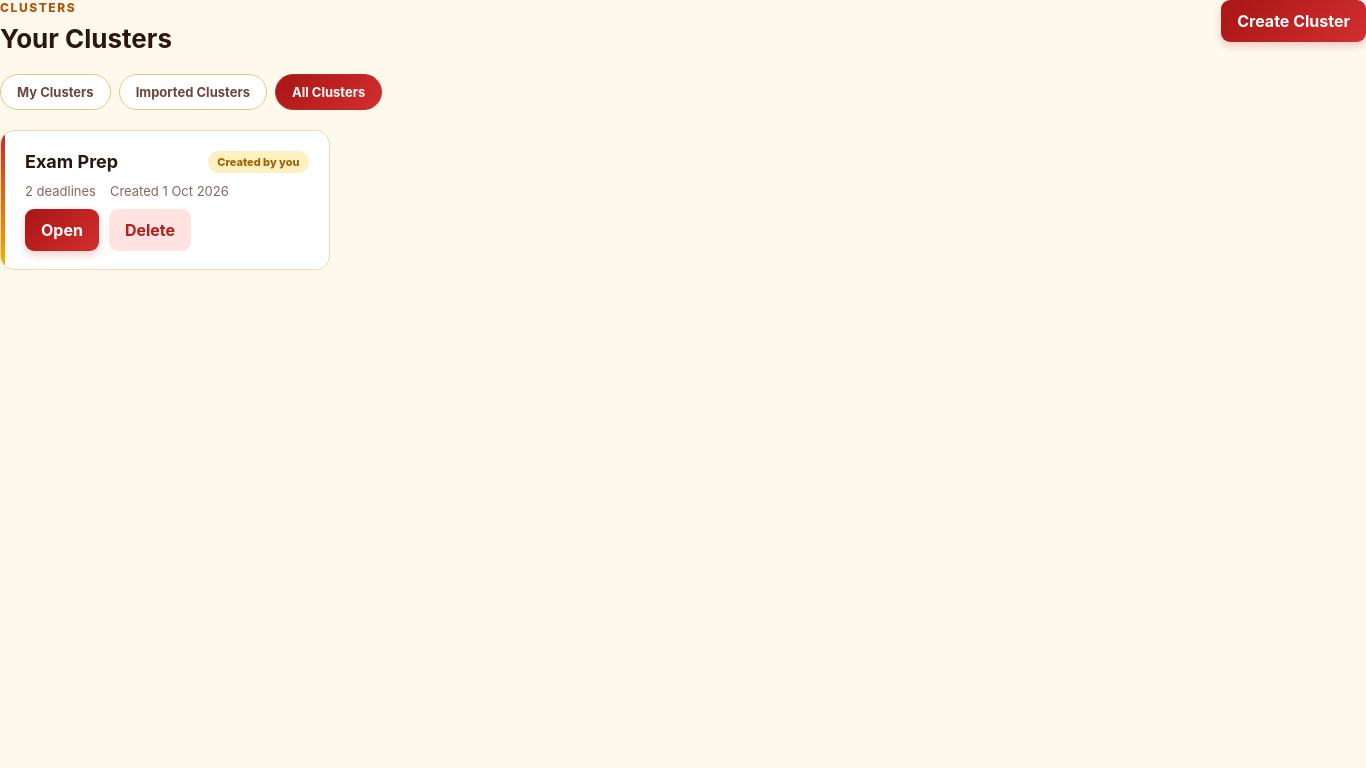
it: Clusters page › cancelling the confirmation does not delete anything
Check: the heading "Exam Prep" is shown, box [25, 151, 118, 172]
What coordinates should you click on to do the following:
click the button with aria-label "Delete Exam Prep"
I would click on:
 (150, 230)
Its box is [109, 209, 191, 251].
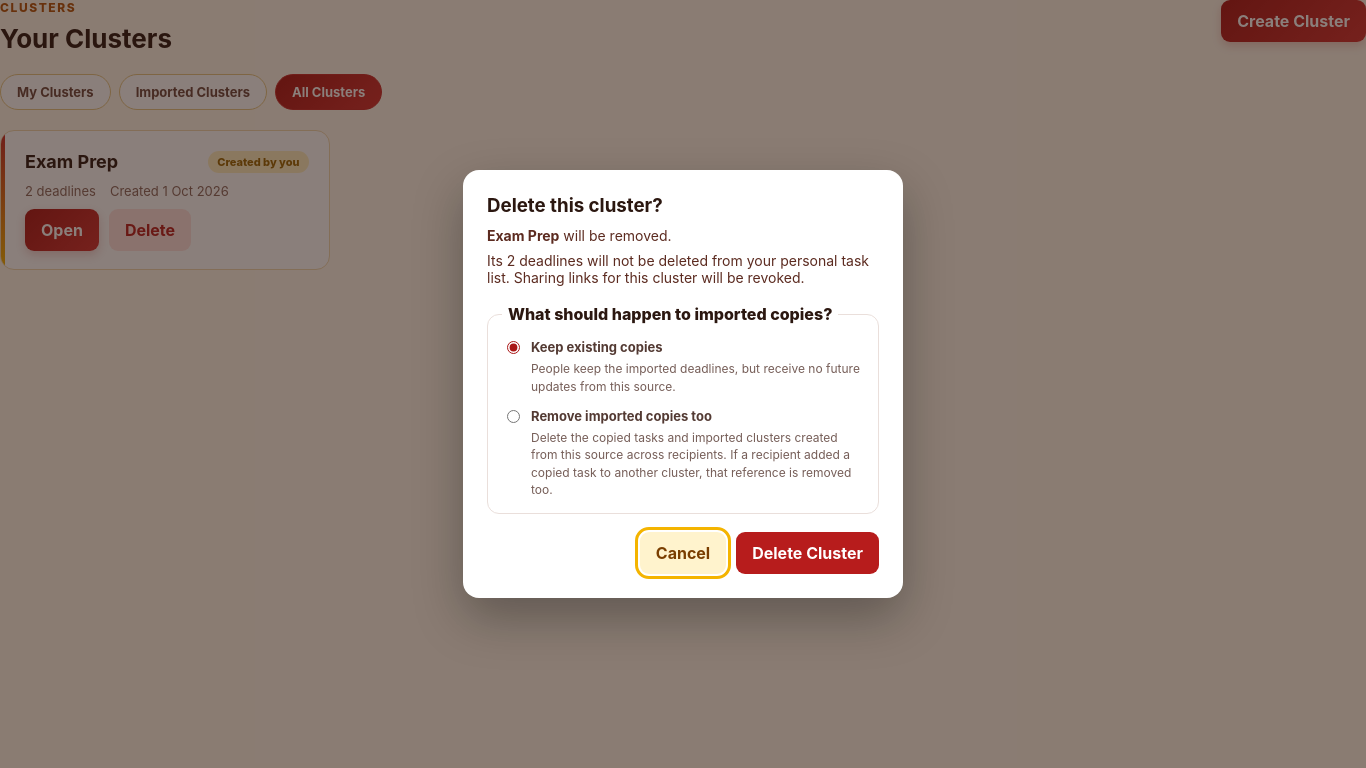
What coordinates should you click on to do the following:
click the button "Cancel"
I would click on:
 (683, 552)
Its box is [640, 532, 726, 574].
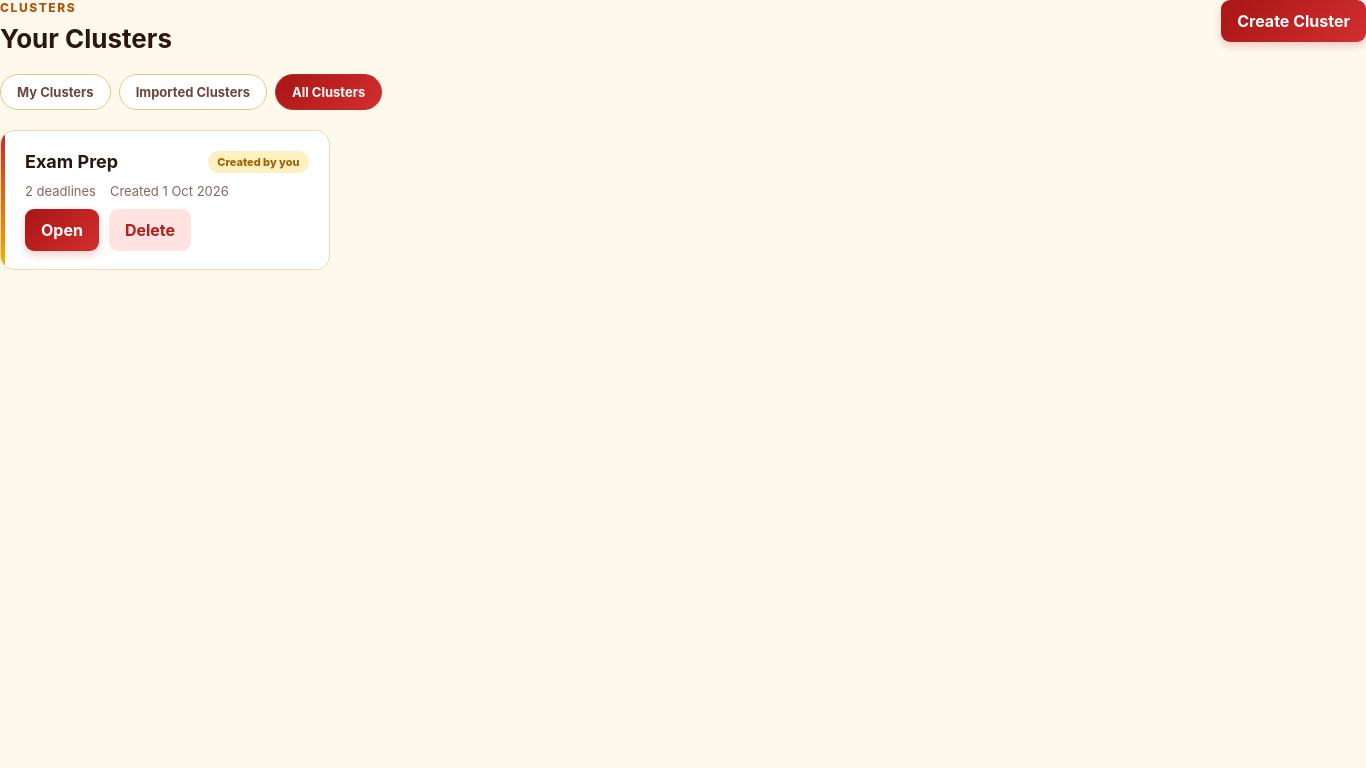
Check: the heading "Exam Prep" is shown, box [25, 151, 118, 172]
Check: the dialog is gone
